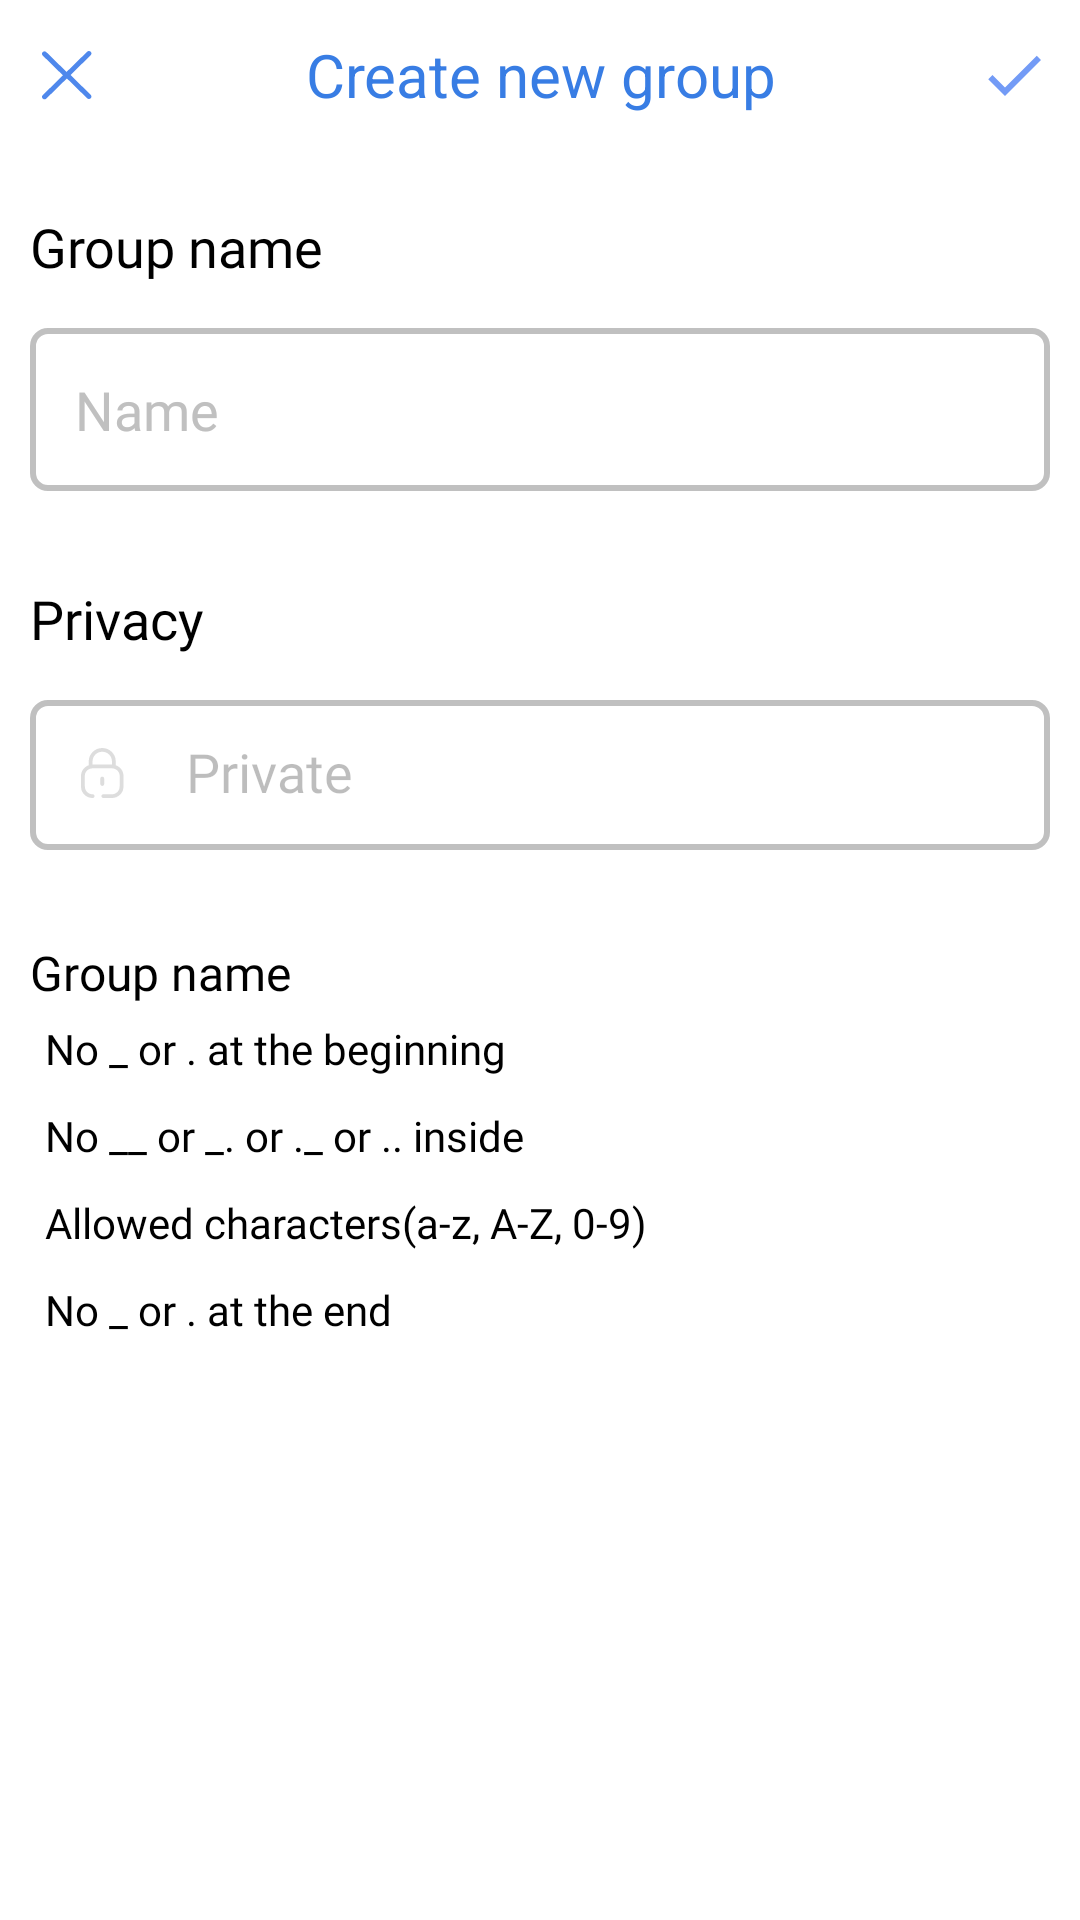

Screen size 1080 x 1920. Icon name, then its box in pixels as (x1, y1, x2, y2):
check: (988, 56, 1041, 96)
close: (42, 51, 92, 100)
